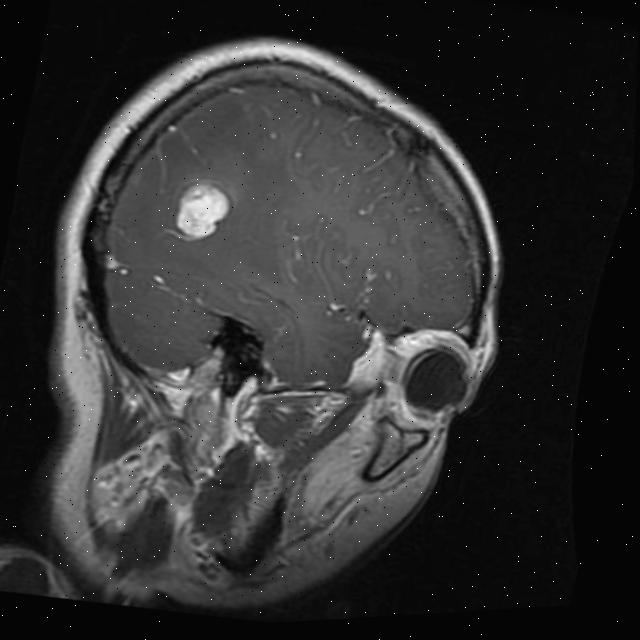Glioma: (168, 172, 237, 249)
